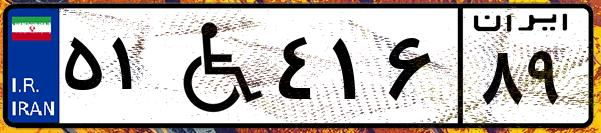1: (330, 28, 385, 110), (110, 28, 158, 98)
4: (270, 28, 330, 110)
5: (57, 26, 110, 100)
6: (385, 28, 445, 110)
8: (475, 38, 525, 113)
9: (525, 38, 570, 115)
ژ (معلولین و جانبازان): (158, 12, 270, 120)
